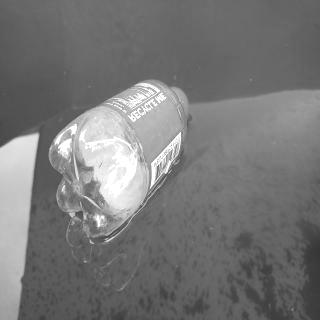bottle: (44, 74, 192, 242)
